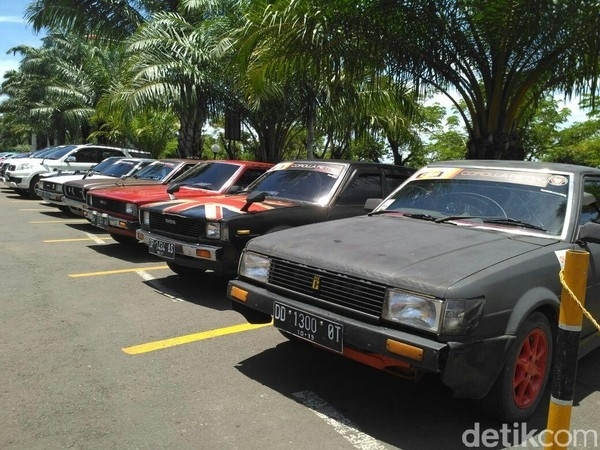plate: (274, 303, 342, 353), (147, 238, 173, 259)
